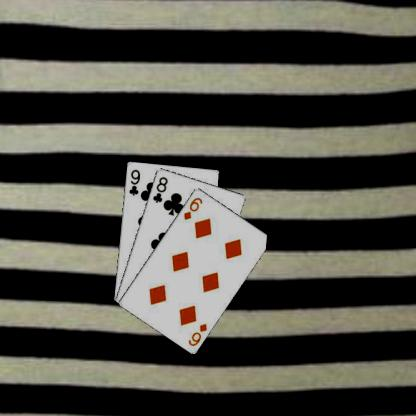6D: (181, 194, 204, 221), (186, 320, 208, 348)
8C: (150, 174, 169, 204)
9C: (126, 167, 141, 197)
